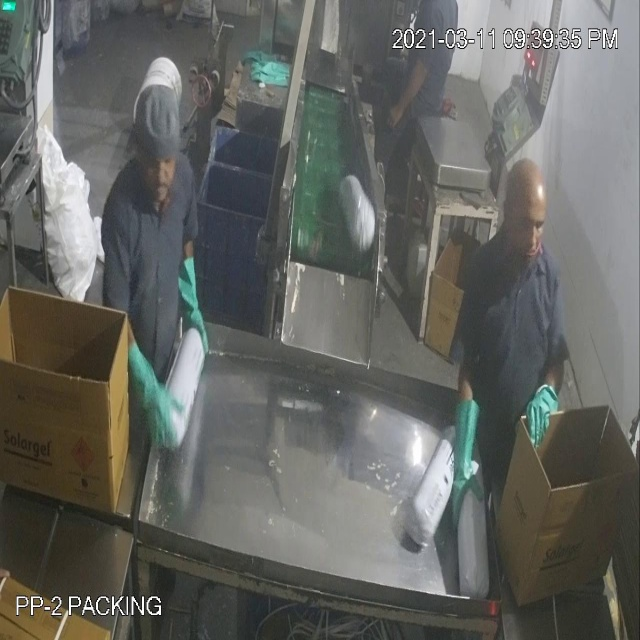Guantes: (447, 382, 486, 521)
Sin_guantes: (376, 52, 433, 135)
